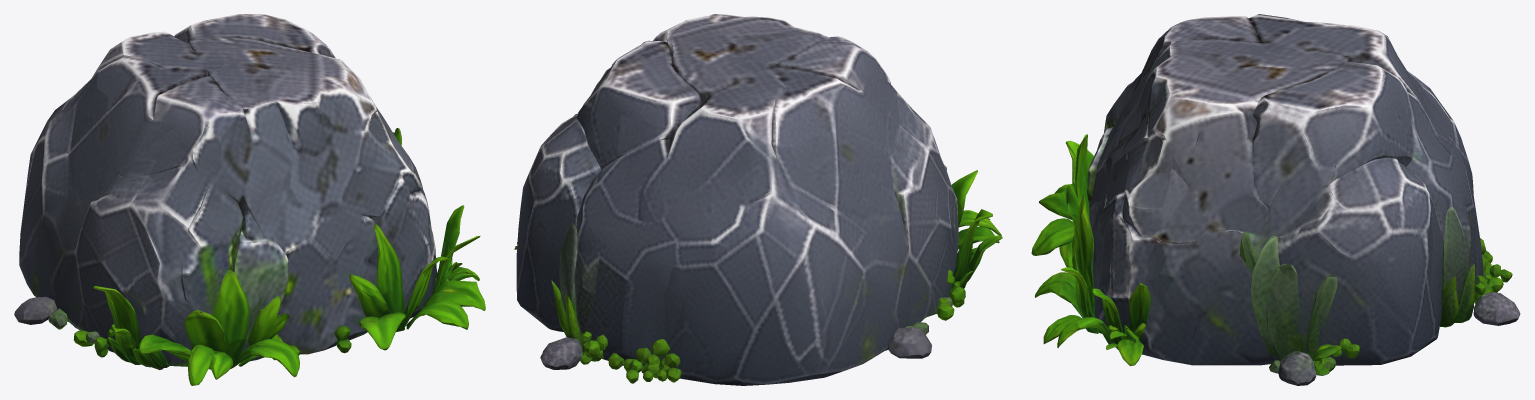
Rendered from rock.glb.
3 renders of one model, left to right at view 1: azimuth 30°, elevation 25°; view 2: azimuth 150°, elevation 25°; view 3: azimuth 270°, elevation 25°, orthographic. The views are drawn at different scales.
Bounding box in the file's own units: 1.81 × 0.989 × 1.87.
1 material, 1 textured.
